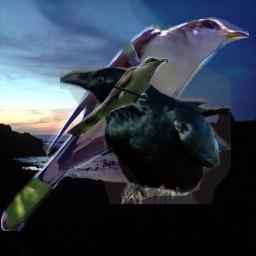Crow: (60, 67, 231, 204)
Cuckoo: (1, 17, 249, 231), (66, 56, 168, 136)
